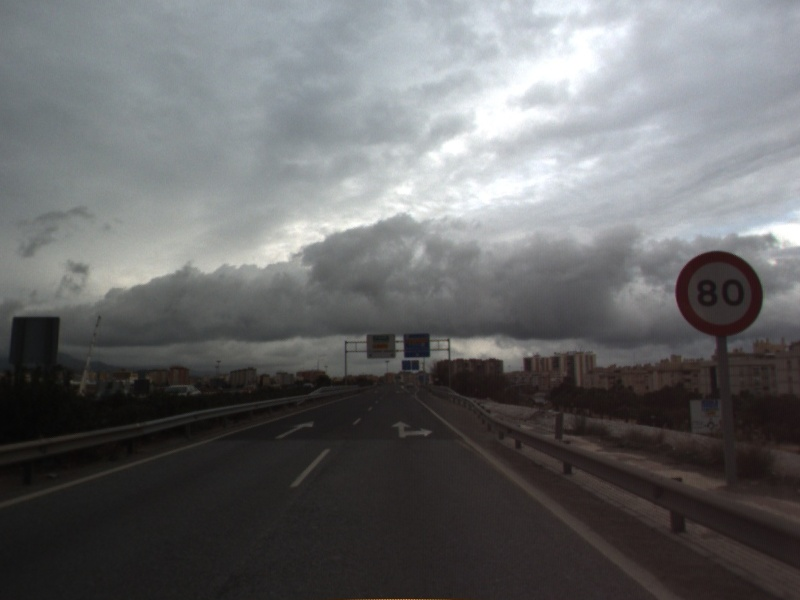STRAIGHT: (273, 418, 316, 441)
STRAIGHT_RIGHT: (389, 418, 436, 440)
